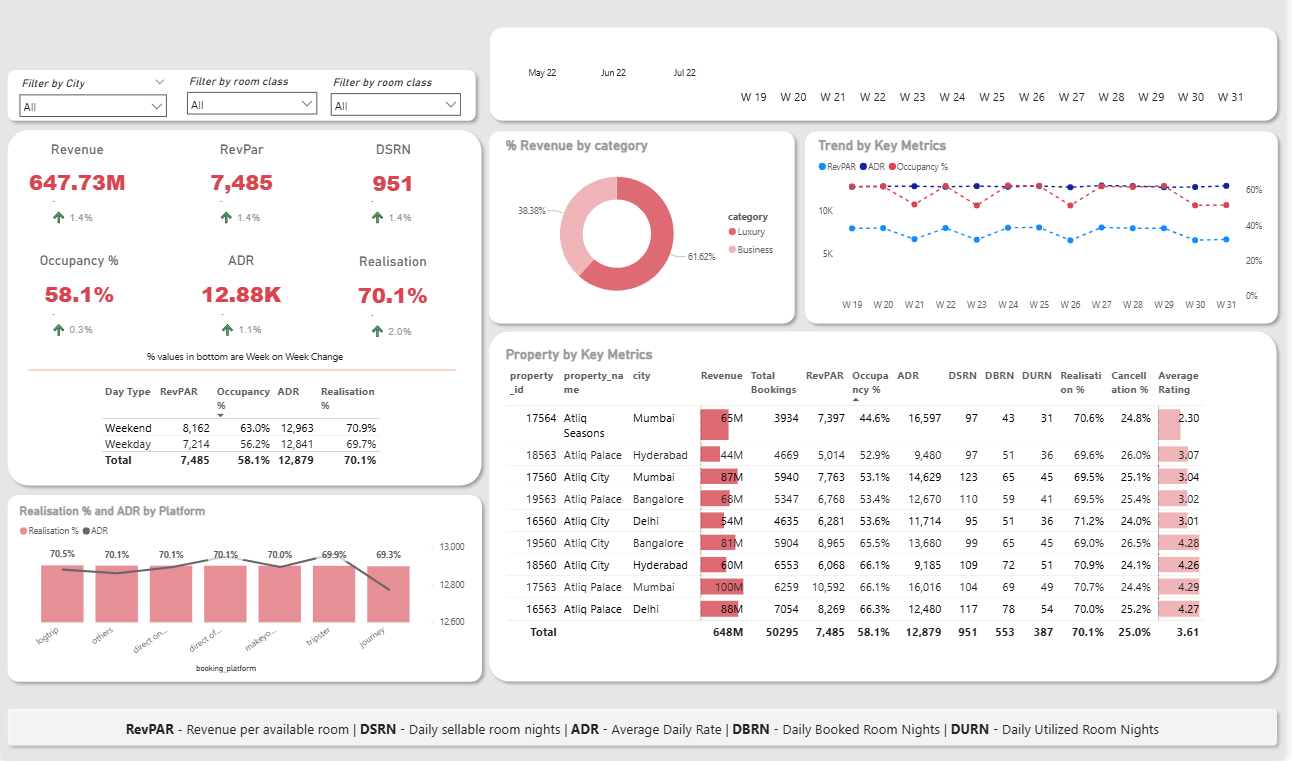

Layout of this report page (visuals, bound fields, positions):
{"tool":"powerbi","page":{"name":"Revenue Insights in Hospitality Domain","canvas":[1800,1100],"ordinal":0},"visuals":[{"type":"shape","box":[0.2,124,675.2,89.4],"z":0,"group":"g4"},{"type":"shape","box":[676.7,63.7,1122.9,149],"z":1000,"group":"g4"},{"type":"shape","box":[676,490.6,1124,509.8],"z":2000,"group":"g4"},{"type":"shape","box":[675.1,209.5,447.6,287.8],"z":3000,"group":"g4"},{"type":"shape","box":[1118.6,209.5,681.7,287.8],"z":4000,"group":"g4"},{"type":"shape","box":[0.2,207.8,683.4,517],"z":5000,"group":"g4"},{"type":"slicer","fields":{"Values":["dim_rooms.room_class"]},"box":[250.7,133.7,202.7,72.4],"z":6000,"group":"g4"},{"type":"slicer","fields":{"Values":["dim_hotels.city"]},"box":[15,137.3,226.8,75.4],"z":7000,"group":"g4"},{"type":"slicer","fields":{"Values":["dim_date.mmm yy"]},"box":[684.2,76.9,348.7,116.9],"z":8000,"group":"g4"},{"type":"card","title":"Revenue","fields":{"Values":["key_measures.Revenue"]},"box":[30.7,231.7,154.7,96.4],"z":8000,"group":"g2"},{"type":"card","title":"RevPar","fields":{"Values":["key_measures.Rev Par"]},"box":[257.9,231.7,160.2,96.4],"z":9000,"group":"g2"},{"type":"card","title":"Occupancy %","fields":{"Values":["key_measures.Occupancy %"]},"box":[14.7,388.2,192,96.6],"z":9000,"group":"g1"},{"type":"tableEx","title":"Property by Key Metrics","fields":{"Values":["dim_hotels.property_id","dim_hotels.property_name","dim_hotels.city","key_measures.Revenue","key_measures.Total Bookings","key_measures.Rev Par","key_measures.Occupancy %","key_measures.ADR","key_measures.DSRN","key_measures.DBRN","key_measures.DURN","key_measures.Realisation %"]},"box":[704,520.1,1053.3,448.1],"z":9000,"group":"g4"},{"type":"lineChart","title":"Trend by Key Metrics","fields":{"Category":["dim_date.mmm yy.Variation.Date Hierarchy.Month","dim_date.week no"],"Y2":["key_measures.Occupancy %"],"Y":["key_measures.Rev Par","key_measures.ADR"]},"box":[1142.7,226.3,633.3,253.5],"z":10000,"group":"g4"},{"type":"card","title":"DSRN","fields":{"Values":["key_measures.DSRN"]},"box":[456.5,232.1,189.3,96.6],"z":11000,"group":"g2"},{"type":"tableEx","fields":{"Values":["dim_date.day type","key_measures.Rev Par","key_measures.Occupancy %","key_measures.ADR","key_measures.Realisation %"]},"box":[135.1,567.9,437.2,130.6],"z":11000,"group":"g4"},{"type":"card","title":"ADR","fields":{"Values":["key_measures.ADR"]},"box":[241.4,387.8,193.3,96.6],"z":12000,"group":"g1"},{"type":"shape","box":[0,719.9,684,280.4],"z":12000,"group":"g4"},{"type":"card","title":"Realisation","fields":{"Values":["key_measures.Realisation %"]},"box":[452.5,388.7,194.7,96.6],"z":13000,"group":"g1"},{"type":"lineStackedColumnComboChart","title":"Realisation % and ADR by Platform","fields":{"Category":["fact_bookings.booking_platform"],"Y":["key_measures.Realisation %"],"Y2":["key_measures.ADR"]},"box":[21.3,740.1,634.7,242.8],"z":13000,"group":"g4"},{"type":"slicer","fields":{"Values":["dim_date.week no"]},"box":[1002.7,145.8,773.3,48.3],"z":14000,"group":"g4"},{"type":"shape","box":[0,1019.1,1800,69.8],"z":15000,"group":"g4"},{"type":"group","id":"g1","title":"Group 1","box":[14.7,387.8,632.4,97.5],"z":16000,"group":"g4"},{"type":"slicer","fields":{"Values":["dim_rooms.room_class"]},"box":[453.3,135.1,202.7,72.4],"z":19000,"group":"g4"},{"type":"group","id":"g2","title":"Group 2","box":[30.7,231.7,615.1,97],"z":20000,"group":"g4"},{"type":"tableEx","fields":{"Values":["key_measures.Revpar WoW change %"]},"box":[296,298.7,92,59],"z":21000,"group":"g4"},{"type":"textbox","box":[61.9,1038.8,1674,50.9],"z":22000,"group":"g4"},{"type":"shape","box":[38.7,545.6,600,14.8],"z":23000,"group":"g4"},{"type":"tableEx","fields":{"Values":["key_measures.Revpar WoW change %"]},"box":[61.3,298.7,92,59],"z":24000,"group":"g4"},{"type":"tableEx","fields":{"Values":["key_measures.Revpar WoW change %"]},"box":[509.3,298.7,92,59],"z":25000,"group":"g4"},{"type":"donutChart","title":"% Revenue by category","fields":{"Category":["dim_hotels.category"],"Y":["key_measures.Revenue"]},"box":[704,226.3,396,249.5],"z":26000,"group":"g4"},{"type":"group","id":"g3","title":"Group 3","box":[61.3,456.7,540,60.4],"z":27000,"group":"g4"},{"type":"tableEx","fields":{"Values":["key_measures.Occupancy WoW change %"]},"box":[61.3,456.7,92,59],"z":27000,"group":"g3"},{"type":"tableEx","fields":{"Values":["key_measures.ADR WoW change %"]},"box":[298.6,456.7,92,59],"z":28000,"group":"g3"},{"type":"textbox","box":[200,520.1,308,33.5],"z":28000,"group":"g4"},{"type":"group","id":"g4","title":"Group 4","box":[0,63.7,1800.2,1026],"z":28001},{"type":"tableEx","fields":{"Values":["key_measures.Realisation WoW change %"]},"box":[509.3,458,92,59],"z":29000,"group":"g3"}]}

Visuals, with their boxes on the page's 1800x1100 design canvas (x1, y1, x2, y2). These are canvas units, not pixel positions in the 1292x761 screenshot, which may show the page scaled, cropped or inside an application window:
shape: x1=0 y1=124 x2=675 y2=213
shape: x1=677 y1=64 x2=1800 y2=213
shape: x1=676 y1=491 x2=1800 y2=1000
shape: x1=675 y1=210 x2=1123 y2=497
shape: x1=1119 y1=210 x2=1800 y2=497
shape: x1=0 y1=208 x2=684 y2=725
slicer - dim_rooms.room_class: x1=251 y1=134 x2=453 y2=206
slicer - dim_hotels.city: x1=15 y1=137 x2=242 y2=213
slicer - dim_date.mmm yy: x1=684 y1=77 x2=1033 y2=194
"Revenue" card: x1=31 y1=232 x2=185 y2=328
"RevPar" card: x1=258 y1=232 x2=418 y2=328
"Occupancy %" card: x1=15 y1=388 x2=207 y2=485
"Property by Key Metrics" tableEx: x1=704 y1=520 x2=1757 y2=968
"Trend by Key Metrics" lineChart: x1=1143 y1=226 x2=1776 y2=480
"DSRN" card: x1=456 y1=232 x2=646 y2=329
tableEx - dim_date.day type x key_measures.Rev Par: x1=135 y1=568 x2=572 y2=698
"ADR" card: x1=241 y1=388 x2=435 y2=484
shape: x1=0 y1=720 x2=684 y2=1000
"Realisation" card: x1=452 y1=389 x2=647 y2=485
"Realisation % and ADR by Platform" lineStackedColumnComboChart: x1=21 y1=740 x2=656 y2=983
slicer - dim_date.week no: x1=1003 y1=146 x2=1776 y2=194
shape: x1=0 y1=1019 x2=1800 y2=1089
"Group 1" group: x1=15 y1=388 x2=647 y2=485
slicer - dim_rooms.room_class: x1=453 y1=135 x2=656 y2=208
"Group 2" group: x1=31 y1=232 x2=646 y2=329
tableEx - key_measures.Revpar WoW change %: x1=296 y1=299 x2=388 y2=358
textbox: x1=62 y1=1039 x2=1736 y2=1090
shape: x1=39 y1=546 x2=639 y2=560
tableEx - key_measures.Revpar WoW change %: x1=61 y1=299 x2=153 y2=358
tableEx - key_measures.Revpar WoW change %: x1=509 y1=299 x2=601 y2=358
"% Revenue by category" donutChart: x1=704 y1=226 x2=1100 y2=476
"Group 3" group: x1=61 y1=457 x2=601 y2=517
tableEx - key_measures.Occupancy WoW change %: x1=61 y1=457 x2=153 y2=516
tableEx - key_measures.ADR WoW change %: x1=299 y1=457 x2=391 y2=516
textbox: x1=200 y1=520 x2=508 y2=554
"Group 4" group: x1=0 y1=64 x2=1800 y2=1090
tableEx - key_measures.Realisation WoW change %: x1=509 y1=458 x2=601 y2=517
